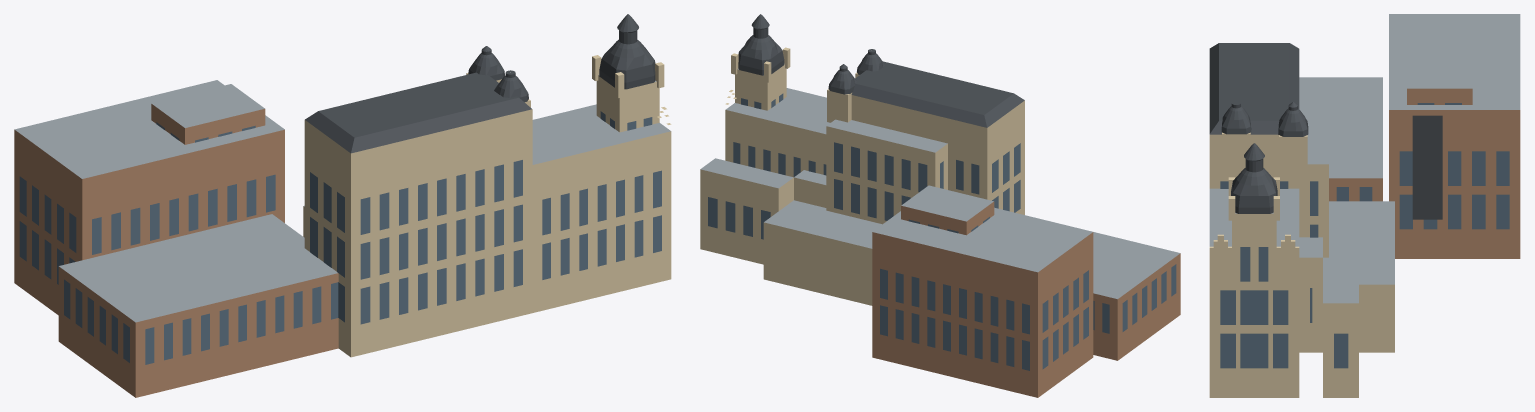
Rendered from sat-hotel-emma.glb.
3 views of the same model, side by side, from view 1: azimuth 30°, elevation 25°; view 2: azimuth 150°, elevation 25°; view 3: azimuth 270°, elevation 25° (orthographic). The views are drawn at different scales.
Visible parts, largest first — view 1: Hotel Emma; view 2: Hotel Emma; view 3: Hotel Emma.
Part boxes in pixels (x1,y1,x2,y2): Hotel Emma: (14,14,671,397); Hotel Emma: (700,14,1180,397); Hotel Emma: (1209,14,1520,397).
Size of the model in its own units: 98.6 by 45.3 by 52.1.
